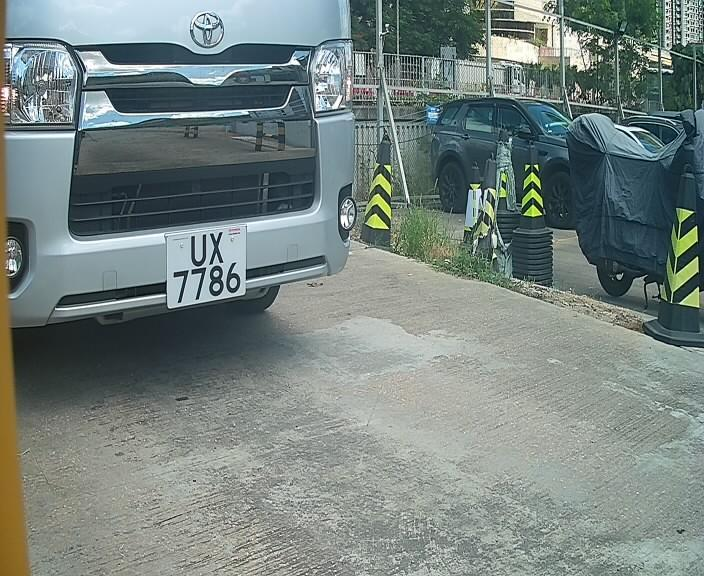License Plate: (158, 224, 255, 314)
